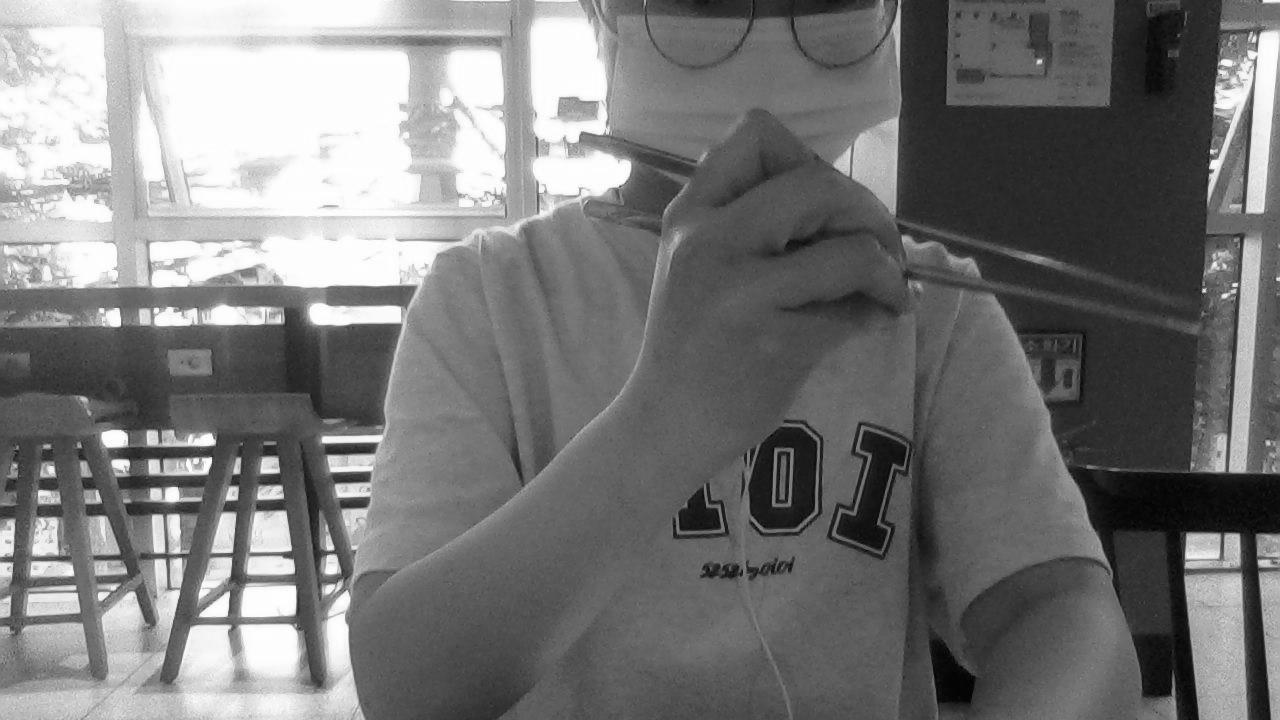chopstick: (576, 131, 1199, 315), (581, 199, 1201, 340)
hand: (625, 110, 924, 465)
